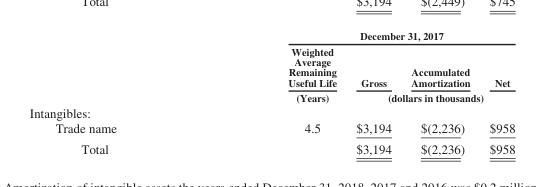table: (28, 29, 514, 155)
table column: (28, 29, 201, 155), (201, 29, 345, 155), (400, 29, 479, 155), (345, 29, 400, 155), (479, 29, 514, 155)
table column header: (28, 29, 514, 104)
table projected row header: (28, 104, 514, 119)
table row: (28, 43, 514, 89), (28, 119, 514, 138), (28, 138, 514, 155), (28, 89, 514, 104), (28, 104, 514, 119), (28, 29, 514, 43)
table spanning cell: (201, 43, 345, 104), (201, 29, 514, 43), (345, 89, 514, 104)
